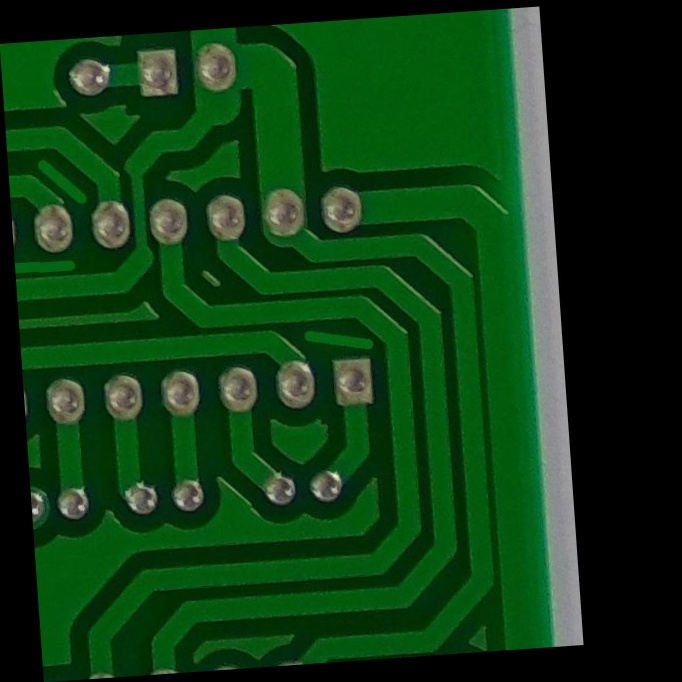spurious_copper: (294, 316, 388, 367)
